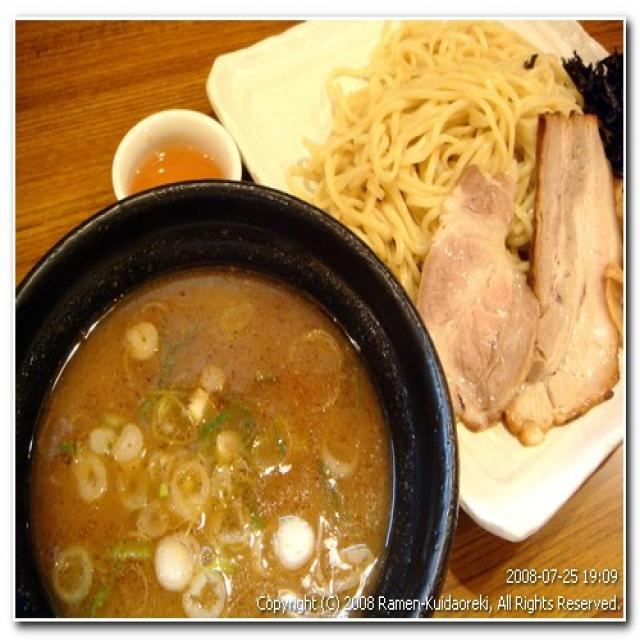面条主食: (21, 23, 618, 610)
